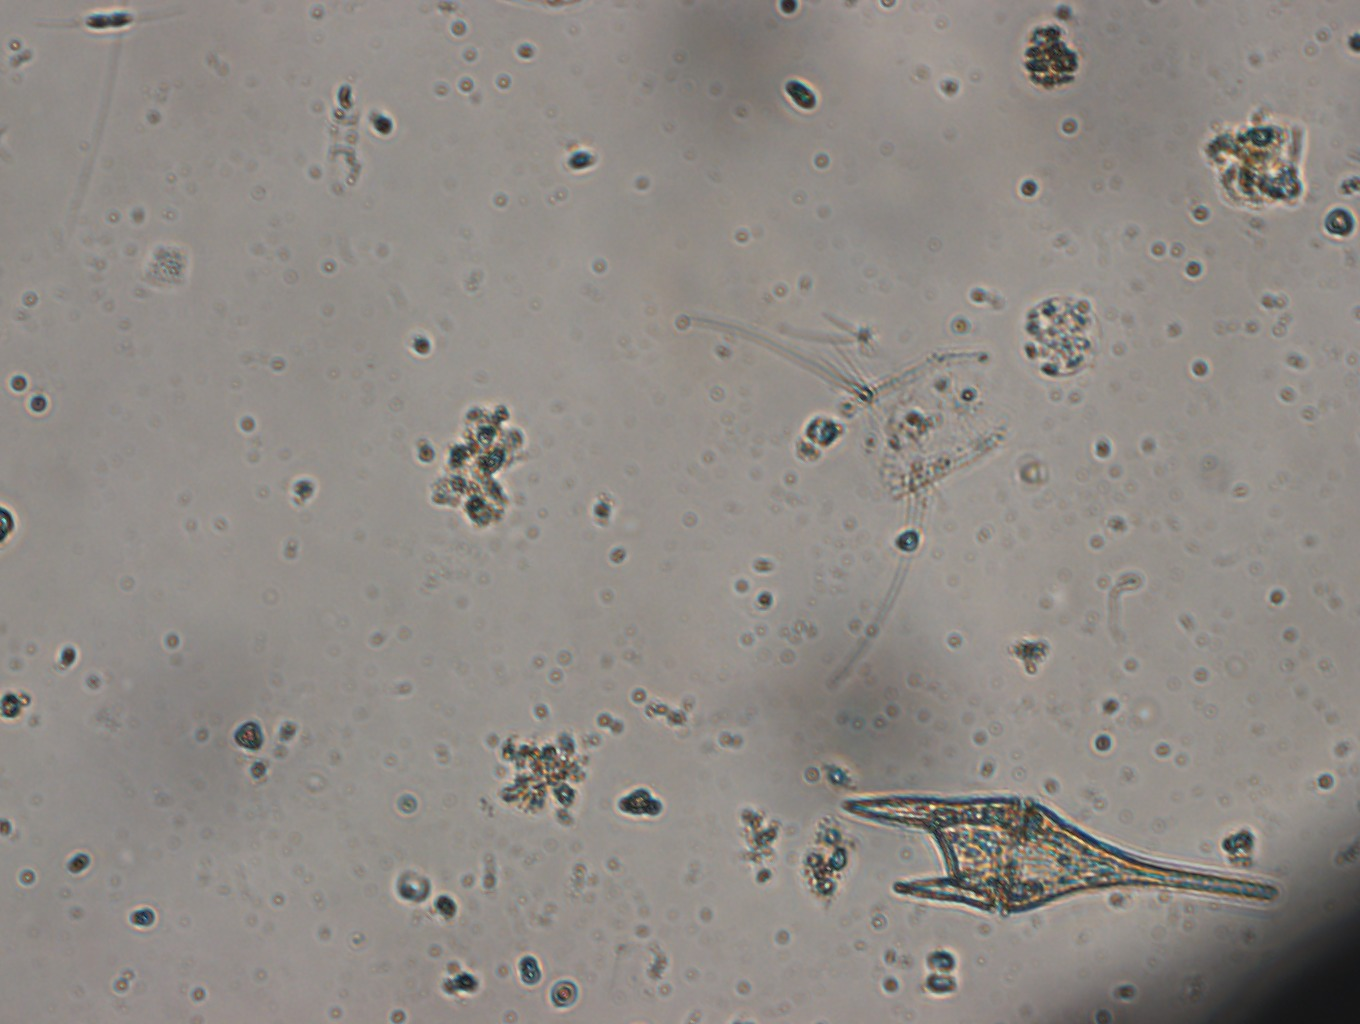ceratium furca: (840, 793, 1282, 916)
